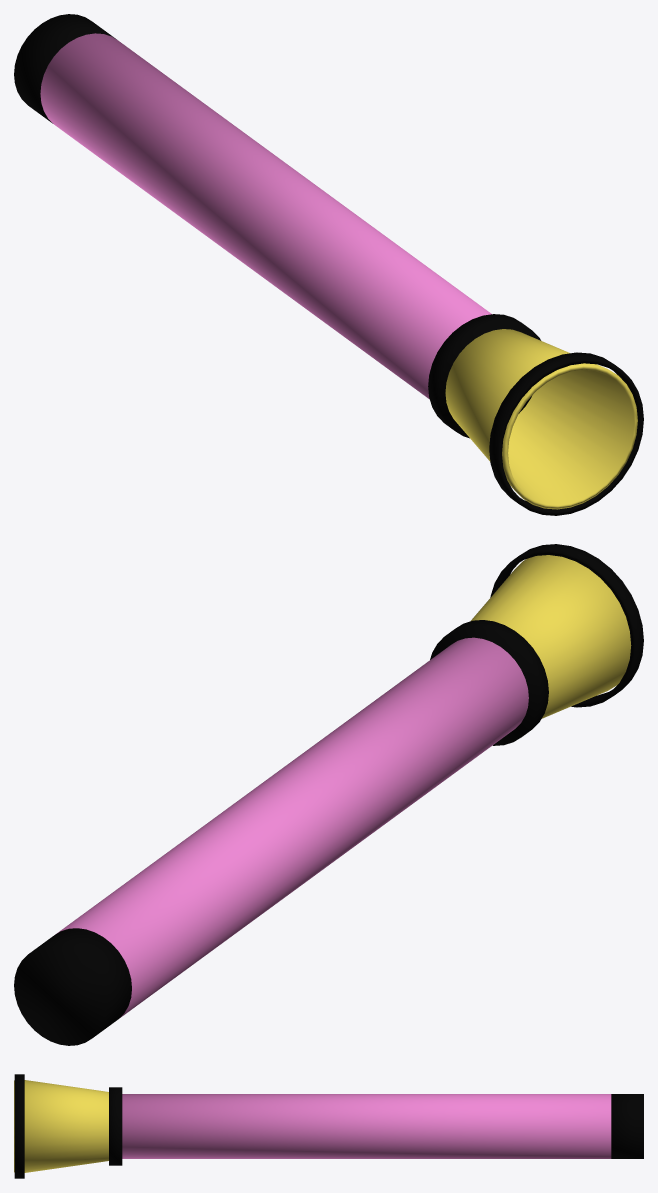
Rendered from painter.fbx.
The picture shows the model from 3 angles, top to bottom: view 1: azimuth 30°, elevation 25°; view 2: azimuth 150°, elevation 25°; view 3: azimuth 270°, elevation 25°; orthographic projection. The views are drawn at different scales.
Visible parts, largest first — view 1: Painter; view 2: Painter; view 3: Painter.
Part boxes in pixels (x1,y1,x2,y2): Painter: [14, 14, 643, 515]; Painter: [14, 544, 643, 1045]; Painter: [14, 1074, 643, 1178].
Bounding box in the file's own units: 320 × 320 × 1933.
